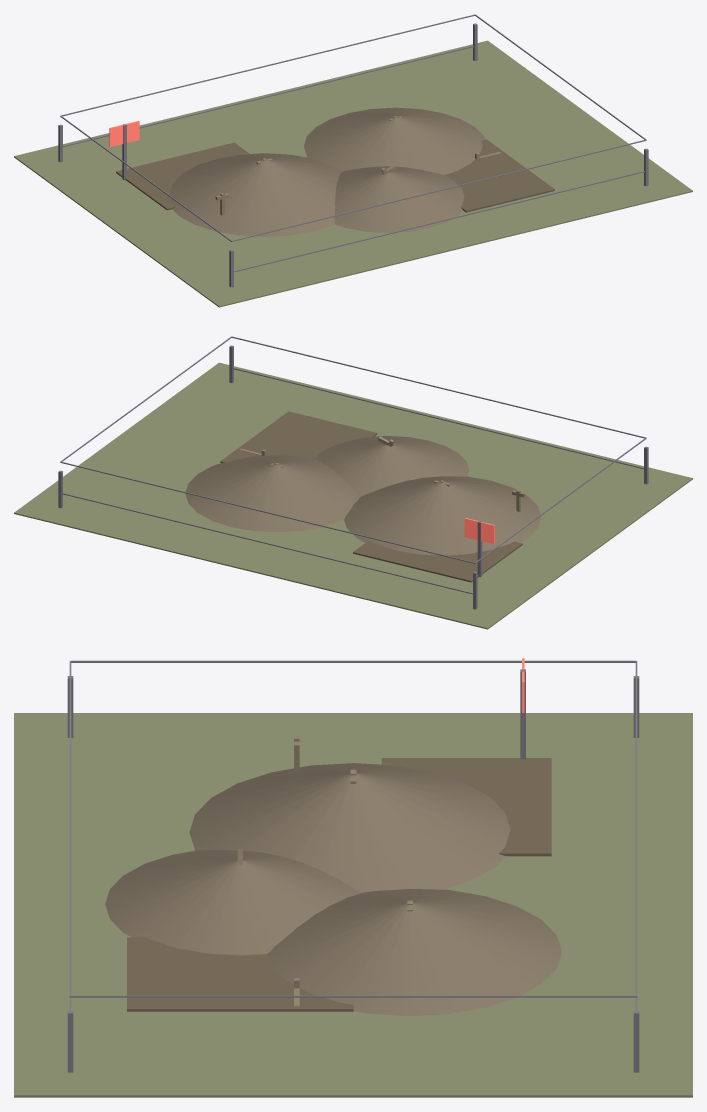
File: mass_grave.glb
3 renders of one model, top to bottom at view 1: azimuth 30°, elevation 25°; view 2: azimuth 150°, elevation 25°; view 3: azimuth 270°, elevation 25°, orthographic. The views are drawn at different scales.
Visible parts, largest first — view 1: ground, mound_1, mound_2, mound_3, soil_patch_2, soil_patch_1, wire_3, wire_1, wire_4, wire_2, sign_board; view 2: ground, mound_1, mound_2, mound_3, soil_patch_2, soil_patch_1, wire_1, wire_3, wire_2, wire_4, sign_board; view 3: ground, mound_1, mound_2, mound_3, soil_patch_2, soil_patch_1, wire_6, wire_5, wire_1, wire_3.
Boxes of the visible parts, bbox=[...] form: ground: bbox=[14, 40, 692, 307]; mound_1: bbox=[170, 153, 341, 236]; mound_2: bbox=[303, 107, 485, 174]; mound_3: bbox=[334, 166, 464, 232]; soil_patch_2: bbox=[444, 139, 554, 212]; soil_patch_1: bbox=[116, 142, 249, 210]; wire_3: bbox=[231, 139, 646, 241]; wire_1: bbox=[60, 14, 474, 116]; wire_4: bbox=[234, 171, 644, 272]; wire_2: bbox=[63, 46, 473, 147]; sign_board: bbox=[109, 121, 139, 146]; ground: bbox=[14, 362, 692, 629]; mound_1: bbox=[344, 476, 541, 555]; mound_2: bbox=[185, 455, 359, 532]; mound_3: bbox=[315, 436, 469, 496]; soil_patch_2: bbox=[220, 411, 377, 462]; soil_patch_1: bbox=[353, 540, 522, 582]; wire_1: bbox=[60, 461, 475, 563]; wire_3: bbox=[231, 336, 645, 438]; wire_2: bbox=[62, 493, 472, 594]; wire_4: bbox=[233, 368, 643, 469]; sign_board: bbox=[464, 518, 494, 544]; ground: bbox=[14, 713, 692, 1097]; mound_1: bbox=[189, 763, 510, 892]; mound_2: bbox=[267, 888, 561, 1016]; mound_3: bbox=[105, 850, 360, 955]; soil_patch_2: bbox=[127, 937, 353, 1011]; soil_patch_1: bbox=[381, 758, 551, 856]; wire_6: bbox=[70, 995, 636, 997]; wire_5: bbox=[71, 660, 635, 662]; wire_1: bbox=[635, 661, 637, 997]; wire_3: bbox=[69, 661, 71, 997].
Size of the model in its own units: 16 by 1.95 by 12.
